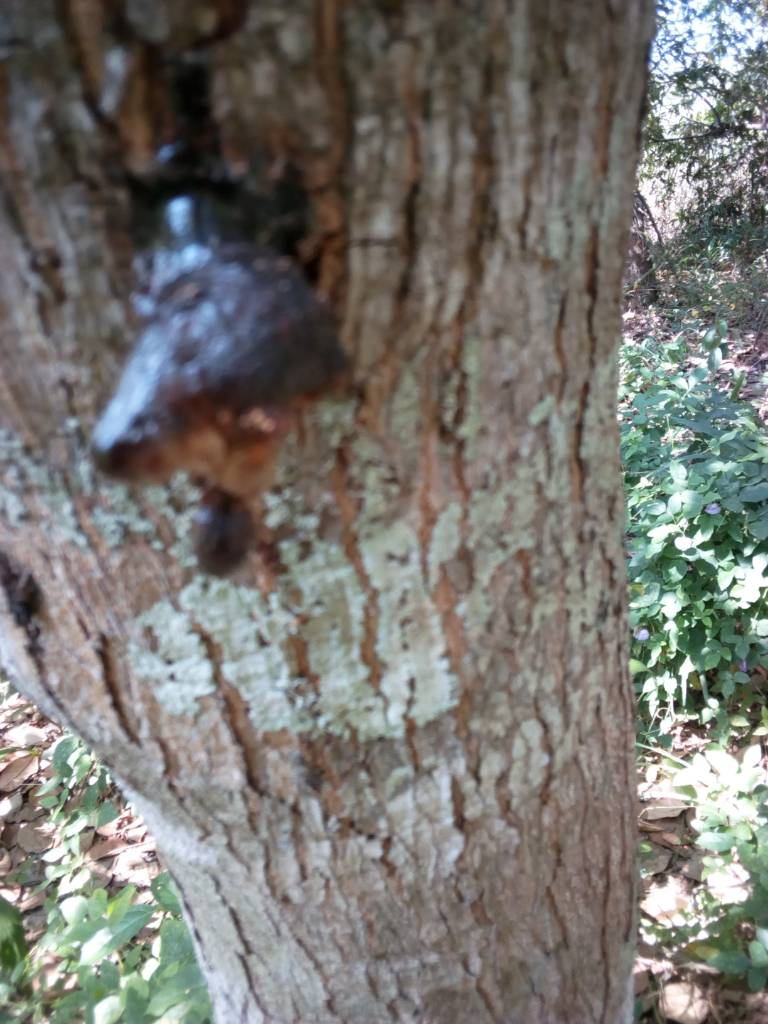Apate terebrans: (57, 207, 407, 561)
